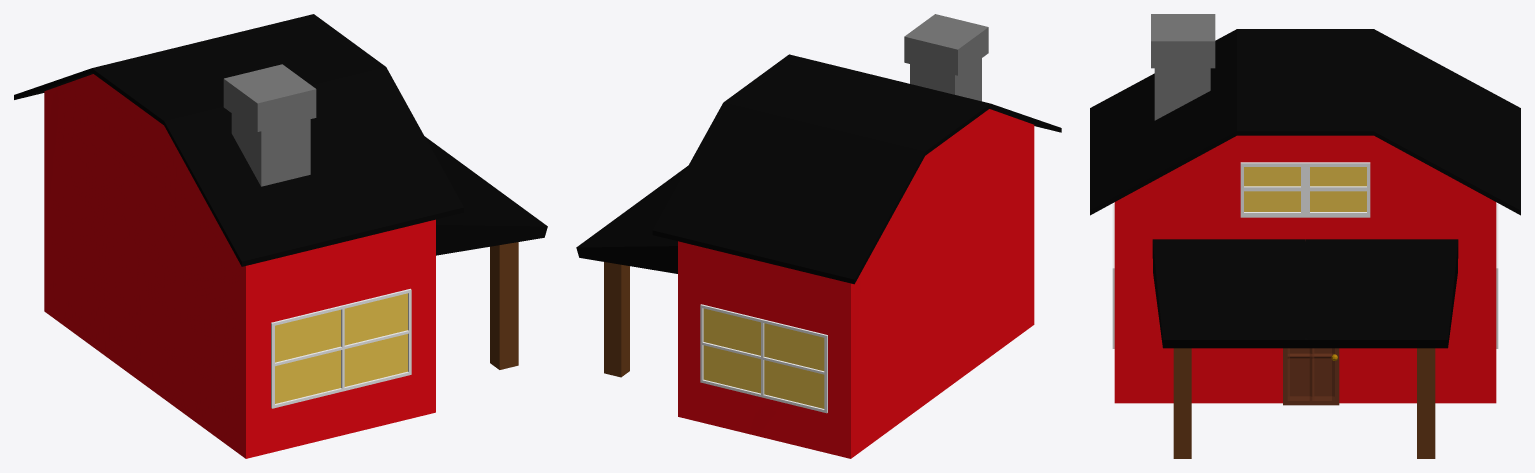
The model's file is Husse.fbx.
3 renders of one model, left to right at view 1: azimuth 30°, elevation 25°; view 2: azimuth 150°, elevation 25°; view 3: azimuth 270°, elevation 25°, orthographic. The views are drawn at different scales.
Visible parts, largest first — view 1: Husse; view 2: Husse; view 3: Husse.
Part boxes in pixels (<box>): Husse: <box>14,14,547,458</box>; Husse: <box>576,14,1061,458</box>; Husse: <box>1090,14,1520,458</box>.
Bounding box in the file's own units: 1585 × 1483 × 1815.
Materials: 1 (1 with a texture image).
